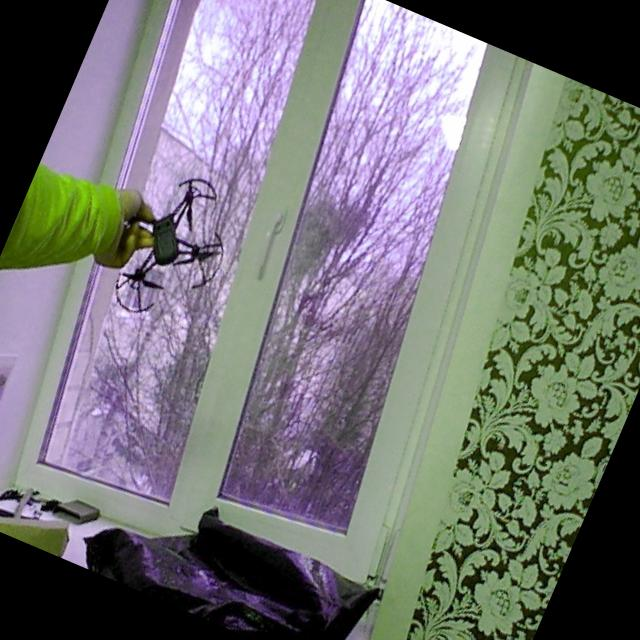drone: (71, 132, 266, 356)
